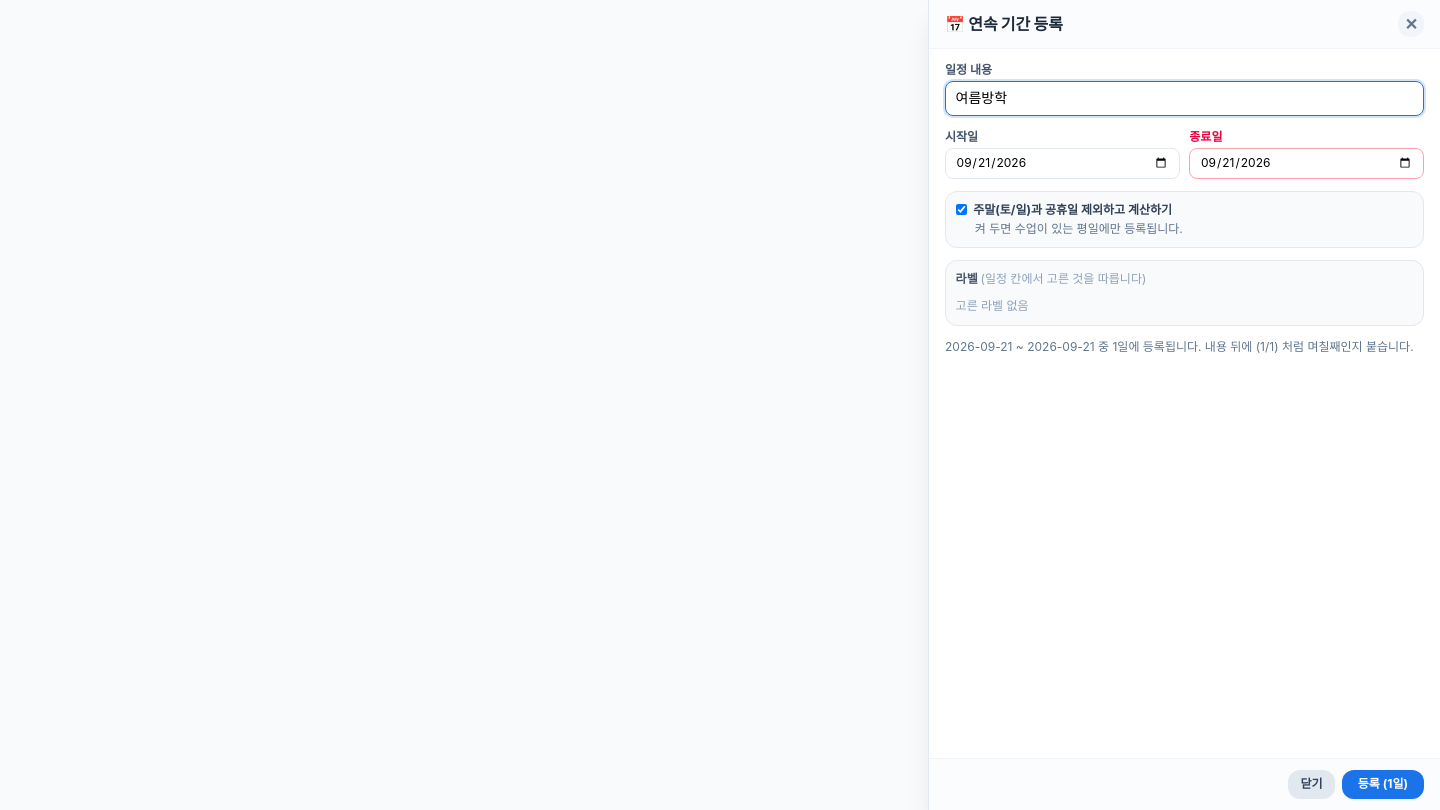
PeriodModal - 기간 설정 › 종료일이 시작일보다 빠르면 등록할 수 없다
In the date field labelled "종료일": x=1307, y=163 [1189,148,1424,178], type "2026-09-01"
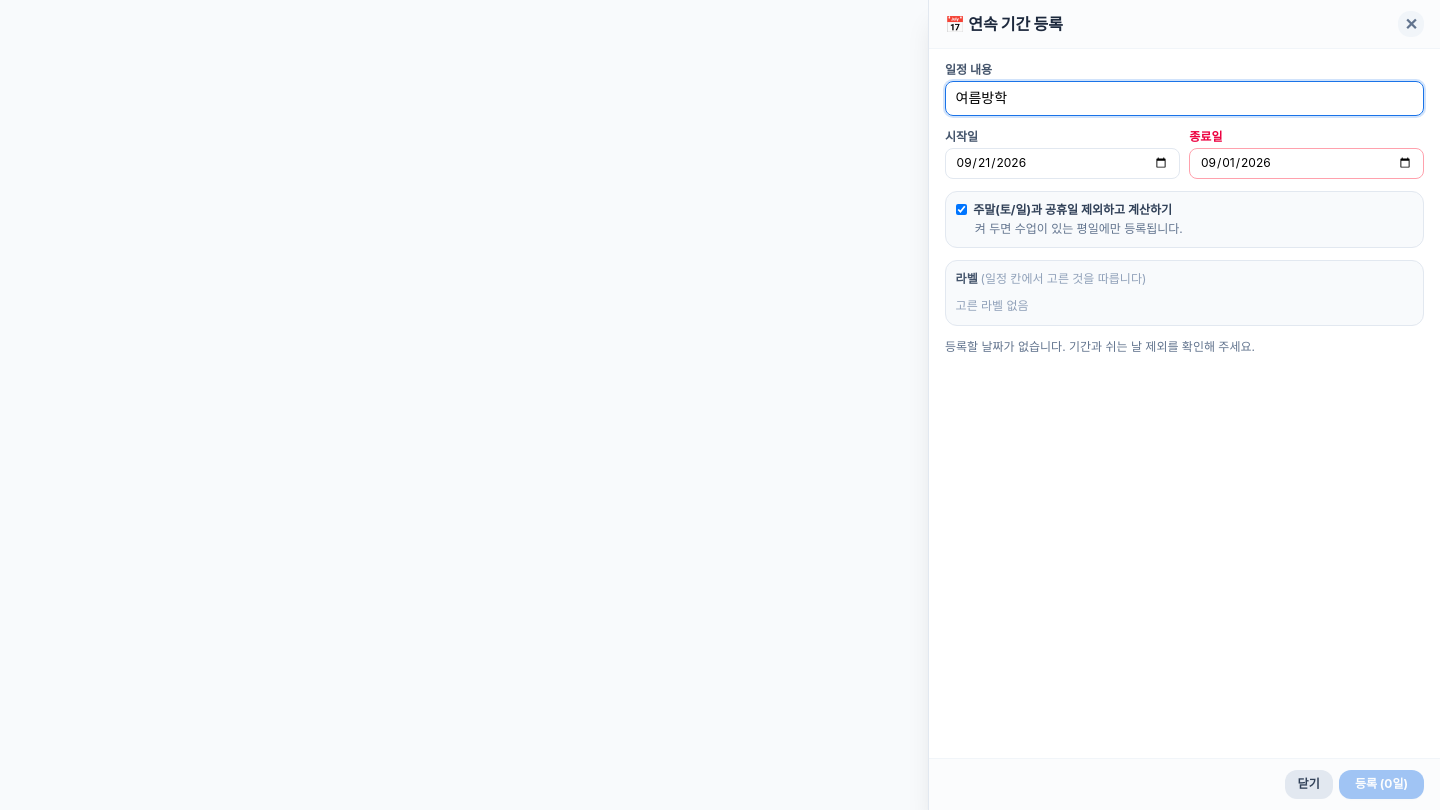
expect the button "등록 (0일)" is disabled: met, box [1339,770,1424,799]
